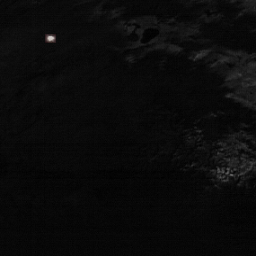Target: (44, 34, 55, 43)
